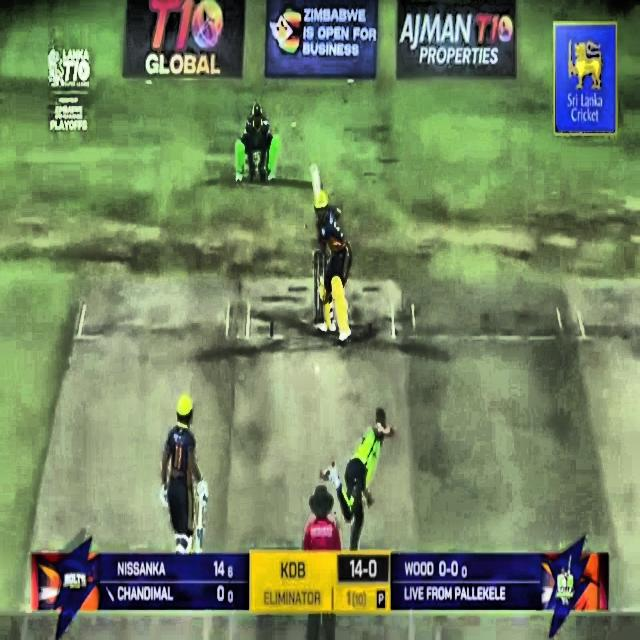Left-stump: (314, 254, 318, 323)
Middle-stump: (321, 302, 324, 324)
